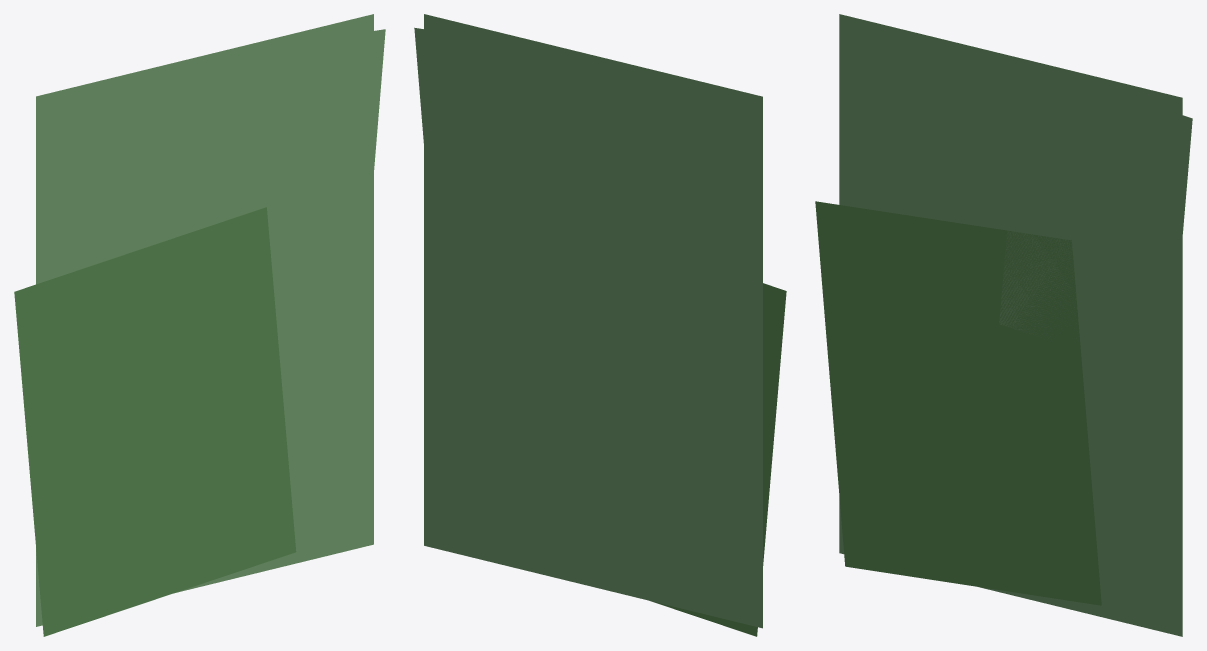
Rendered from ivy_wall.glb.
3 views of the same model, side by side, from view 1: azimuth 30°, elevation 25°; view 2: azimuth 150°, elevation 25°; view 3: azimuth 330°, elevation 25° (orthographic).
Parts seen in each view (by area): view 1: ivy_2, ivy_1, ivy_3; view 2: ivy_1, ivy_2, ivy_3; view 3: ivy_2, ivy_1, ivy_3.
Part boxes in pixels (x1,y1,x2,y2): ivy_2: (14, 207, 296, 636); ivy_1: (36, 14, 373, 626); ivy_3: (203, 29, 385, 311); ivy_1: (424, 14, 762, 628); ivy_2: (650, 283, 786, 636); ivy_3: (414, 27, 423, 142); ivy_2: (815, 201, 1101, 605); ivy_1: (839, 14, 1182, 636); ivy_3: (999, 61, 1192, 381).
Size of the model in its own units: 2.2 by 3.06 by 0.01.
